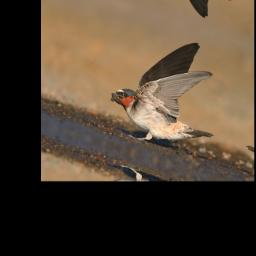Swallow: (102, 20, 236, 163)
